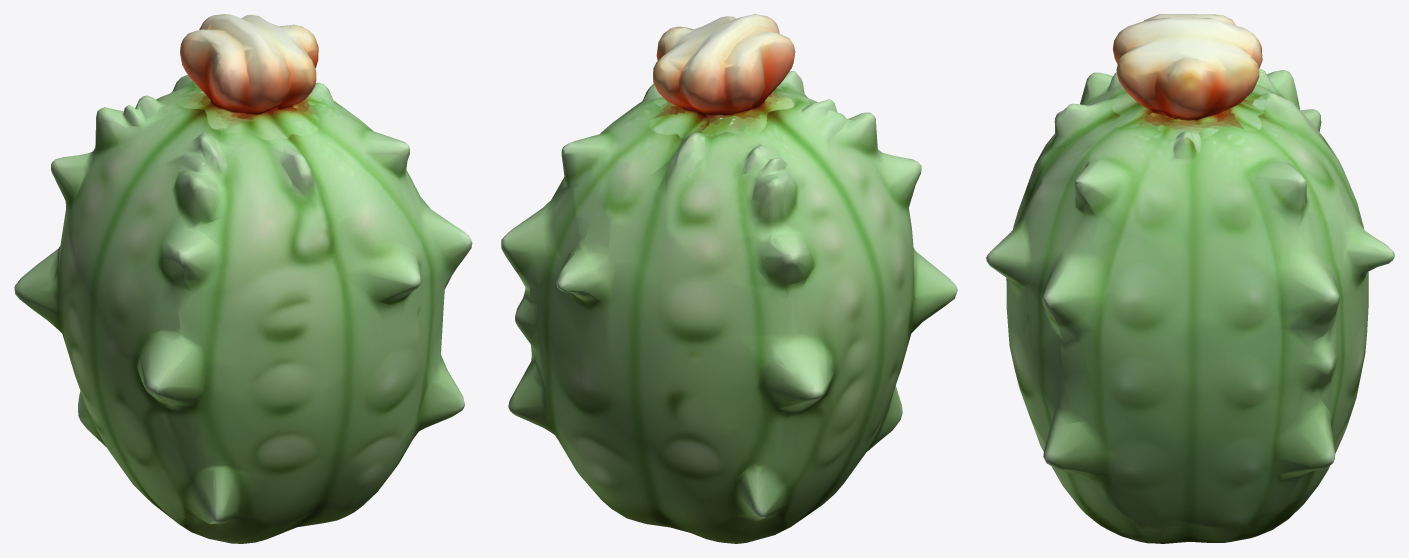
File: cactus2_textured.glb
3 renders of one model, left to right at view 1: azimuth 30°, elevation 25°; view 2: azimuth 150°, elevation 25°; view 3: azimuth 270°, elevation 25°, orthographic.
Visible parts, largest first — view 1: temp_mesh.ply; view 2: temp_mesh.ply; view 3: temp_mesh.ply.
Part boxes in pixels (x1,y1,x2,y2): temp_mesh.ply: (14, 14, 472, 543); temp_mesh.ply: (501, 14, 957, 543); temp_mesh.ply: (986, 14, 1394, 543).
Size of the model in its own units: 1.32 by 1.97 by 1.43.
Materials: 1 (1 with a texture image).
